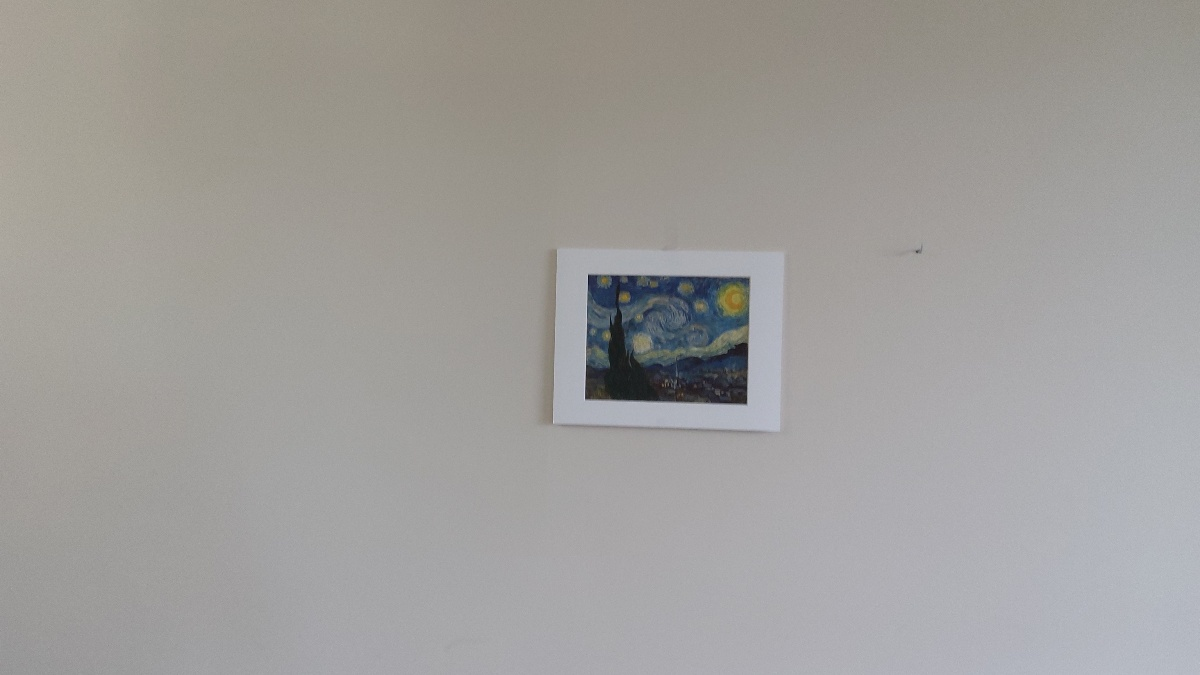painting: (581, 267, 762, 411)
